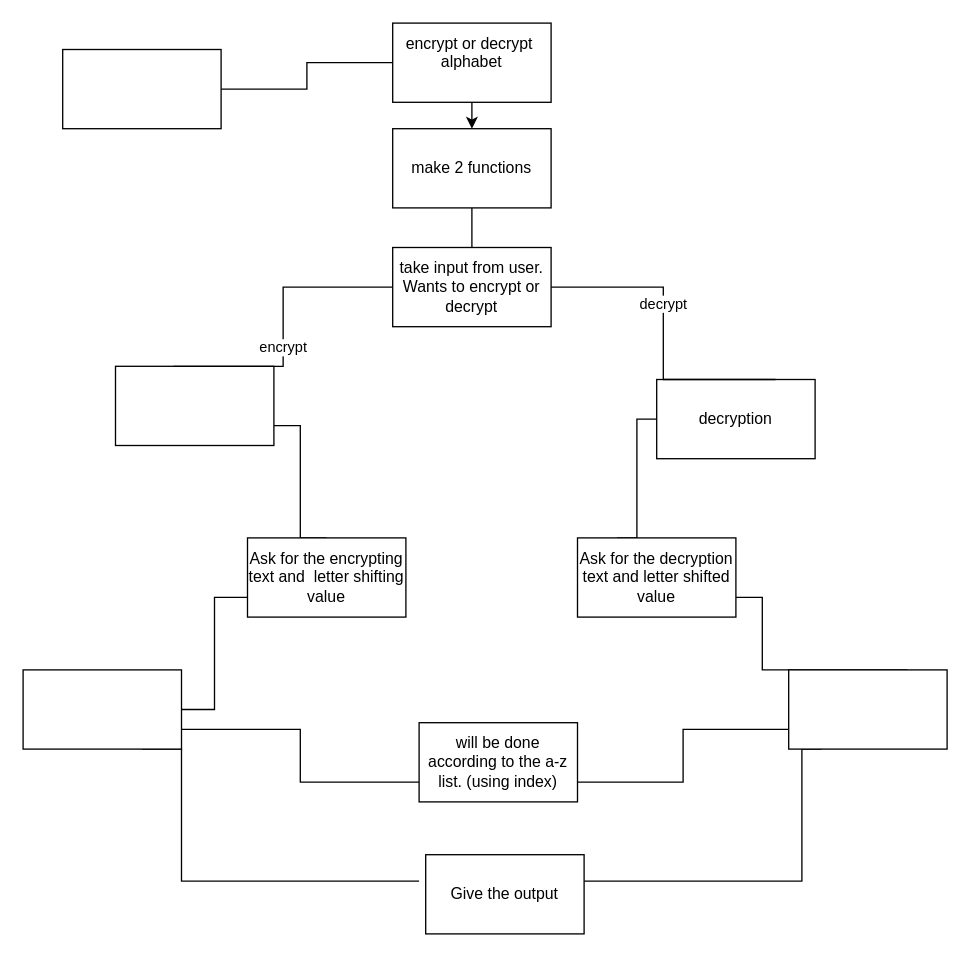
Image size: 970x957. Some labels were removed from this diagram. The box of each missing label's shape, as (x1, y1, x2, y2) in pixels:
already has a list with alphabet a-z: (61, 48, 221, 129)
encryption: (114, 365, 274, 446)
shift back each letter according to the shifted value: (787, 669, 947, 749)
shift each letter according to the shifting value given: (22, 669, 182, 749)
